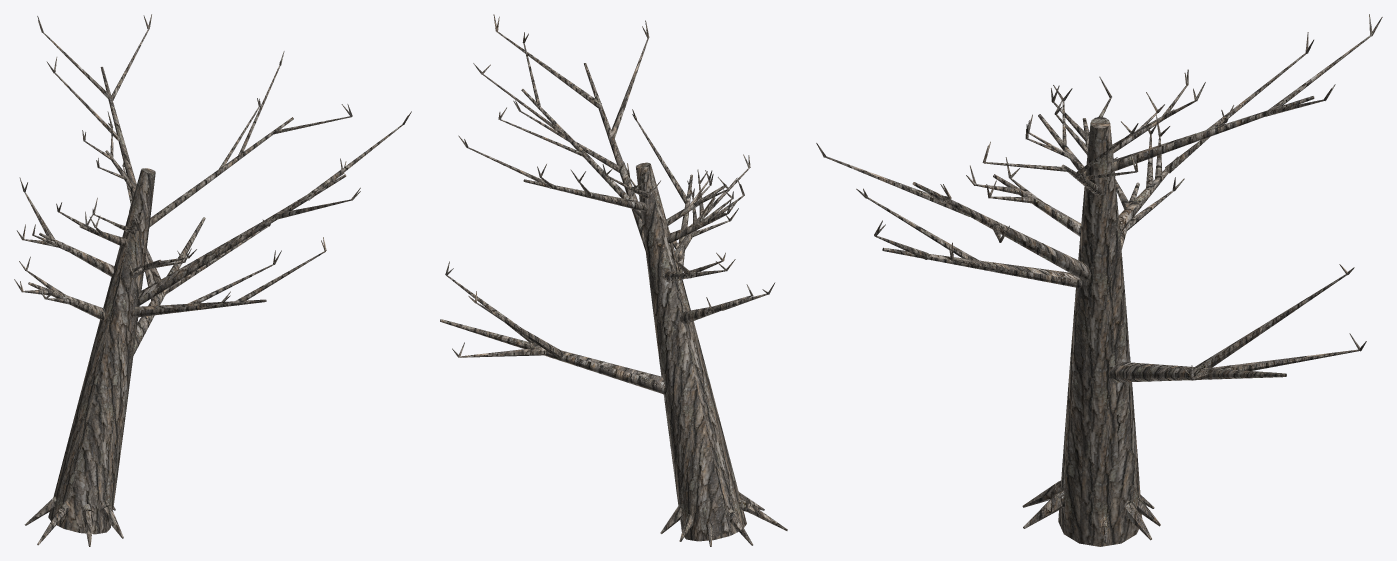
Rendered from broken-crown-v02.glb.
3 views of the same model, side by side, from view 1: azimuth 30°, elevation 25°; view 2: azimuth 150°, elevation 25°; view 3: azimuth 270°, elevation 25° (orthographic). The views are drawn at different scales.
Visible parts, largest first — view 1: dead-tree-broken; view 2: dead-tree-broken; view 3: dead-tree-broken.
Part boxes in pixels (x1,y1,x2,y2): dead-tree-broken: [14, 14, 411, 546]; dead-tree-broken: [440, 14, 787, 546]; dead-tree-broken: [816, 14, 1382, 546].
Size of the model in its own units: 7.54 by 9.01 by 8.34.
1 material, 1 textured.
